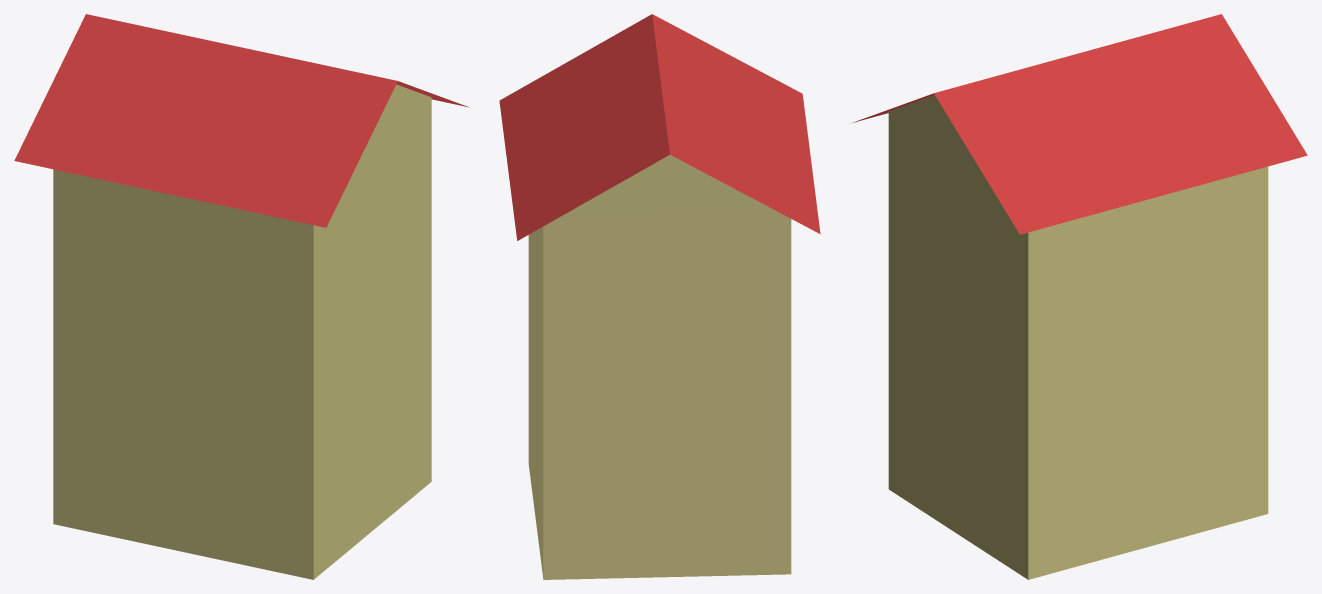
3 renders of one model, left to right at view 1: azimuth 30°, elevation 25°; view 2: azimuth 150°, elevation 25°; view 3: azimuth 270°, elevation 25°, orthographic. The views are drawn at different scales.
Size of the model in its own units: 11.83 by 12.07 by 12.99.
